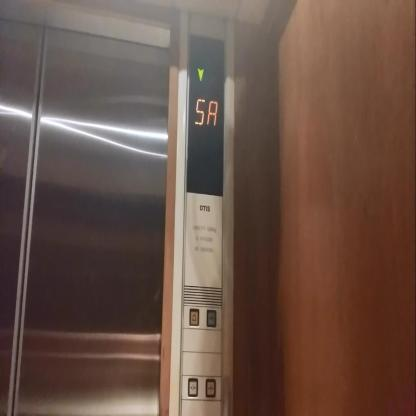alarm: (188, 307, 199, 326)
call: (206, 308, 216, 327)
close: (206, 378, 216, 396)
led: (184, 30, 226, 197)
open: (188, 377, 198, 397)
